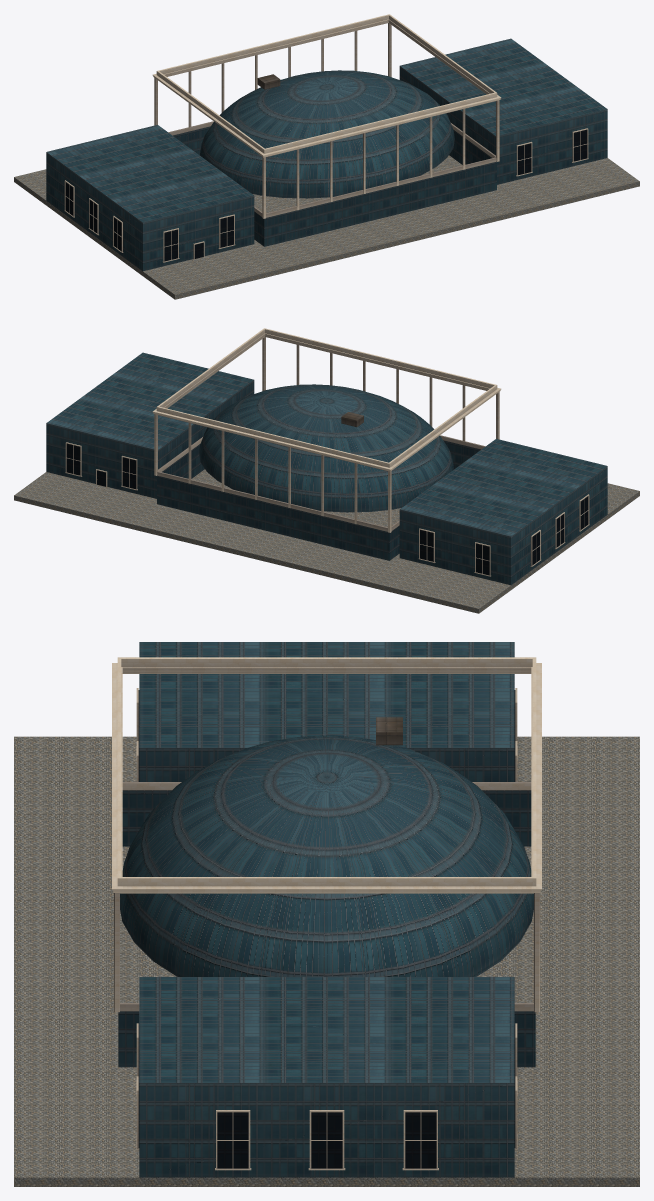
The model's file is conservatory_lod0.gltf.
3 renders of one model, top to bottom at view 1: azimuth 30°, elevation 25°; view 2: azimuth 150°, elevation 25°; view 3: azimuth 270°, elevation 25°, orthographic. The views are drawn at different scales.
Parts seen in each view (by area): view 1: conservatory_dome, conservatory_wing0, conservatory_base, conservatory_wing1, conservatory__v4_stone_detail, conservatory_drum, conservatory_fen_07-glass-curtain-blue_1_t, conservatory_fen_04-limestone_0; view 2: conservatory_dome, conservatory_wing0, conservatory_base, conservatory_wing1, conservatory__v4_stone_detail, conservatory_drum, conservatory_fen_07-glass-curtain-blue_1_t, conservatory_fen_04-limestone_0; view 3: conservatory_base, conservatory_dome, conservatory_wing1, conservatory_wing0, conservatory__v4_stone_detail, conservatory_fen_07-glass-curtain-blue_1_t, conservatory_drum, conservatory_fen_04-limestone_0, conservatory__v4_metal_detail.
Part boxes in pixels (left/top/right/bottom): conservatory_dome: left=200, top=70, right=454, bottom=198; conservatory_wing0: left=46, top=125, right=254, bottom=271; conservatory_base: left=14, top=155, right=639, bottom=299; conservatory_wing1: left=399, top=38, right=607, bottom=184; conservatory__v4_stone_detail: left=152, top=14, right=501, bottom=218; conservatory_drum: left=173, top=126, right=496, bottom=246; conservatory_fen_07-glass-curtain-blue_1_t: left=65, top=129, right=587, bottom=261; conservatory_fen_04-limestone_0: left=64, top=128, right=588, bottom=262; conservatory_dome: left=199, top=384, right=453, bottom=512; conservatory_wing0: left=399, top=439, right=607, bottom=585; conservatory_base: left=14, top=469, right=639, bottom=613; conservatory_wing1: left=46, top=352, right=254, bottom=498; conservatory__v4_stone_detail: left=152, top=328, right=501, bottom=532; conservatory_drum: left=157, top=440, right=480, bottom=560; conservatory_fen_07-glass-curtain-blue_1_t: left=66, top=443, right=588, bottom=575; conservatory_fen_04-limestone_0: left=65, top=442, right=589, bottom=576; conservatory_base: left=14, top=736, right=639, bottom=1186; conservatory_dome: left=120, top=735, right=533, bottom=976; conservatory_wing1: left=139, top=977, right=514, bottom=1177; conservatory_wing0: left=139, top=642, right=514, bottom=781; conservatory__v4_stone_detail: left=112, top=657, right=541, bottom=1012; conservatory_fen_07-glass-curtain-blue_1_t: left=138, top=690, right=515, bottom=1168; conservatory_drum: left=118, top=790, right=535, bottom=1067; conservatory_fen_04-limestone_0: left=136, top=688, right=517, bottom=1170; conservatory__v4_metal_detail: left=376, top=717, right=402, bottom=745.
Bounding box in the file's own units: 101 × 21.35 × 60.
